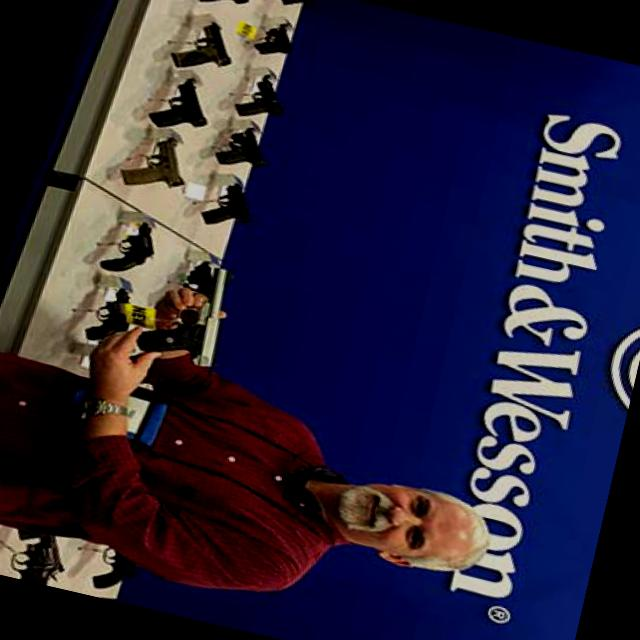handgun: (142, 250, 243, 368), (118, 119, 196, 208), (0, 520, 81, 588), (150, 72, 224, 144), (167, 10, 240, 80), (96, 210, 168, 280), (197, 170, 261, 232), (90, 540, 156, 600), (230, 66, 292, 126), (86, 281, 142, 347), (211, 118, 275, 172), (258, 15, 300, 60)
